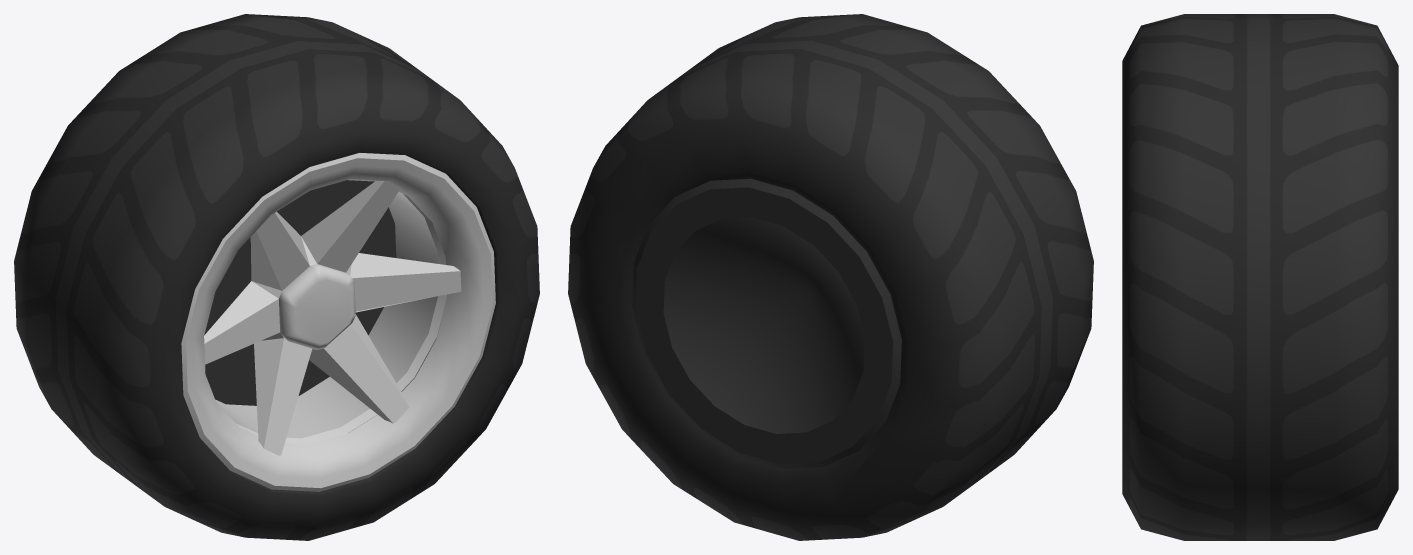
Rendered from Wheel_05.fbx.
3 renders of one model, left to right at view 1: azimuth 30°, elevation 25°; view 2: azimuth 150°, elevation 25°; view 3: azimuth 270°, elevation 25°, orthographic. The views are drawn at different scales.
Parts seen in each view (by area): view 1: Wheel_05; view 2: Wheel_05; view 3: Wheel_05.
Boxes of the visible parts, box(x1,y1,x2,y2) form: Wheel_05: box(14, 14, 539, 540); Wheel_05: box(568, 14, 1093, 540); Wheel_05: box(1122, 14, 1398, 540).
Size of the model in its own units: 95 by 50 by 95.
